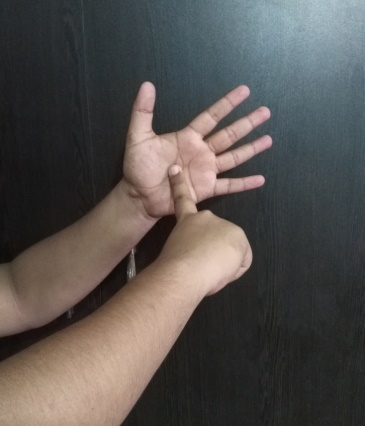oo: (120, 80, 273, 290)
